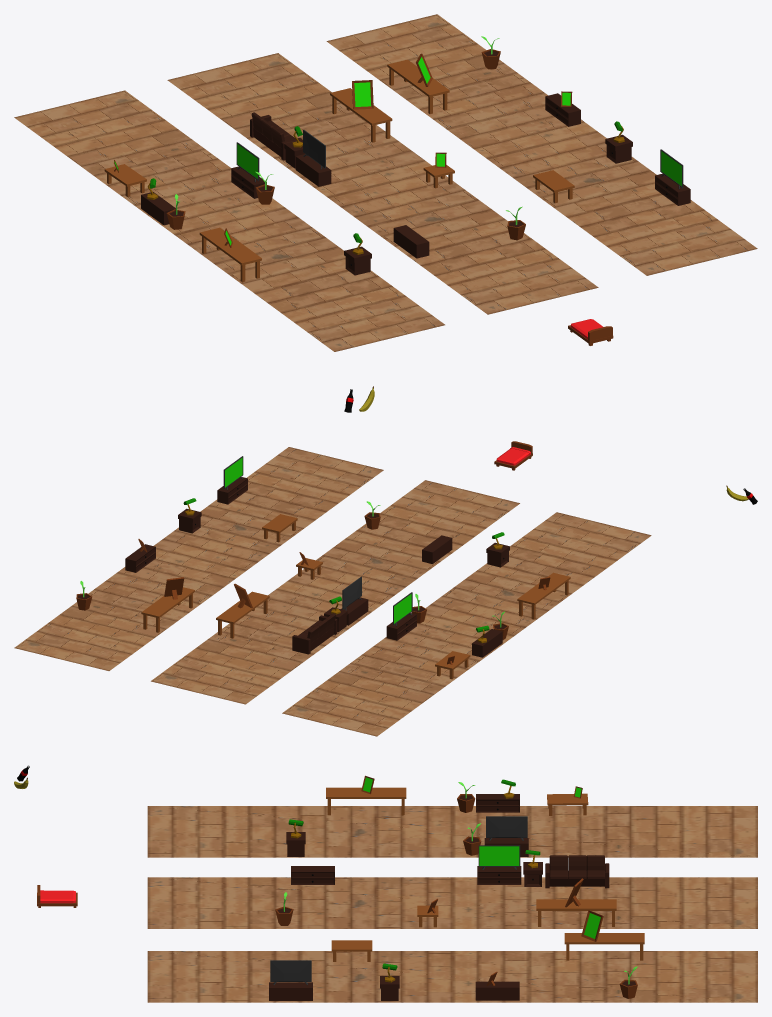
The model's file is room.glb.
3 renders of one model, top to bottom at view 1: azimuth 30°, elevation 25°; view 2: azimuth 150°, elevation 25°; view 3: azimuth 270°, elevation 25°, orthographic. The views are drawn at different scales.
Visible parts, largest first — view 1: Road3, Road1, Road2, long_table1, long_table3.001, sofa1, long_table3, tv_table3.001, bed, tv_table3, tv_table3.002, tv_table3.003 (+2 smaller); view 2: Road3, Road1, Road2, sofa1, long_table1, long_table3, long_table3.001, bed, tv_table3.001, tv_table3.002, tv_table2, tv_table3.003 (+2 smaller); view 3: Road1, Road2, Road3, sofa1, long_table1, long_table3, long_table3.001, TV1.002, TV1, tv_table3.002, tv_table3.001, tv_table3.003 (+10 smaller).
Boxes of the visible parts, <box> form: Road3: <box>326,14,757,275</box>; Road1: <box>14,90,444,351</box>; Road2: <box>167,53,598,314</box>; long_table1: <box>199,227,261,282</box>; long_table3.001: <box>387,59,449,113</box>; sofa1: <box>250,112,302,160</box>; long_table3: <box>330,88,392,142</box>; tv_table3.001: <box>393,225,429,258</box>; bed: <box>568,319,613,345</box>; tv_table3: <box>295,154,331,186</box>; tv_table3.002: <box>545,93,580,126</box>; tv_table3.003: <box>655,173,690,205</box>; Road3: <box>14,447,383,670</box>; Road1: <box>282,512,651,736</box>; Road2: <box>151,480,519,704</box>; sofa1: <box>292,613,337,654</box>; long_table1: <box>517,572,570,619</box>; long_table3: <box>216,591,269,638</box>; long_table3.001: <box>141,587,194,632</box>; bed: <box>494,441,532,470</box>; tv_table3.001: <box>422,535,452,563</box>; tv_table3.002: <box>125,544,155,572</box>; tv_table2: <box>472,629,502,657</box>; tv_table3.003: <box>217,477,247,504</box>; Road1: <box>147,806,757,857</box>; Road2: <box>147,877,757,928</box>; Road3: <box>147,951,757,1002</box>; sofa1: <box>545,855,609,888</box>; long_table1: <box>326,787,406,815</box>; long_table3: <box>536,899,616,926</box>; long_table3.001: <box>564,933,644,960</box>; TV1.002: <box>270,960,311,985</box>; TV1: <box>486,816,527,840</box>; tv_table3.002: <box>475,981,519,1000</box>; tv_table3.001: <box>291,866,334,884</box>; tv_table3.003: <box>269,982,312,1000</box>.
Size of the model in its own units: 25.9 by 2.3 by 36.57.
Materials: 19 (3 with a texture image).
